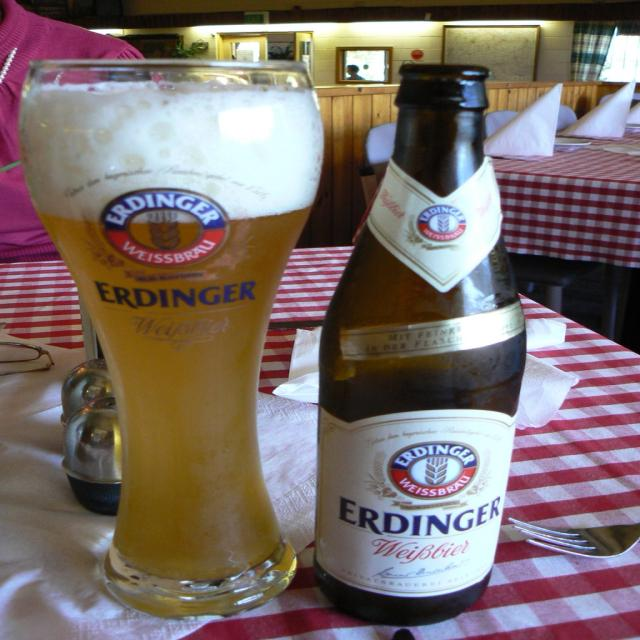erdinger: (334, 202, 506, 547), (56, 161, 267, 312)
